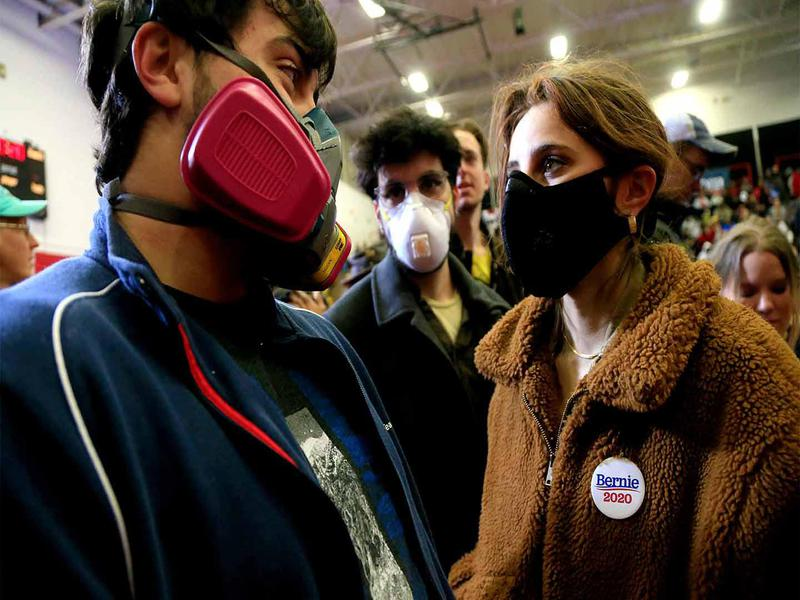with_mask: (77, 1, 359, 296), (492, 69, 673, 306), (376, 154, 457, 280)
without_mask: (727, 246, 791, 337), (669, 142, 709, 204)
